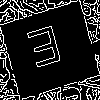E: (25, 24, 67, 78)
